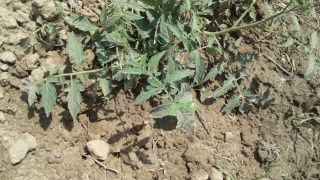tomato diseased leaf: (173, 46, 198, 66)
tomato plant: (97, 14, 163, 83), (32, 38, 87, 107)
